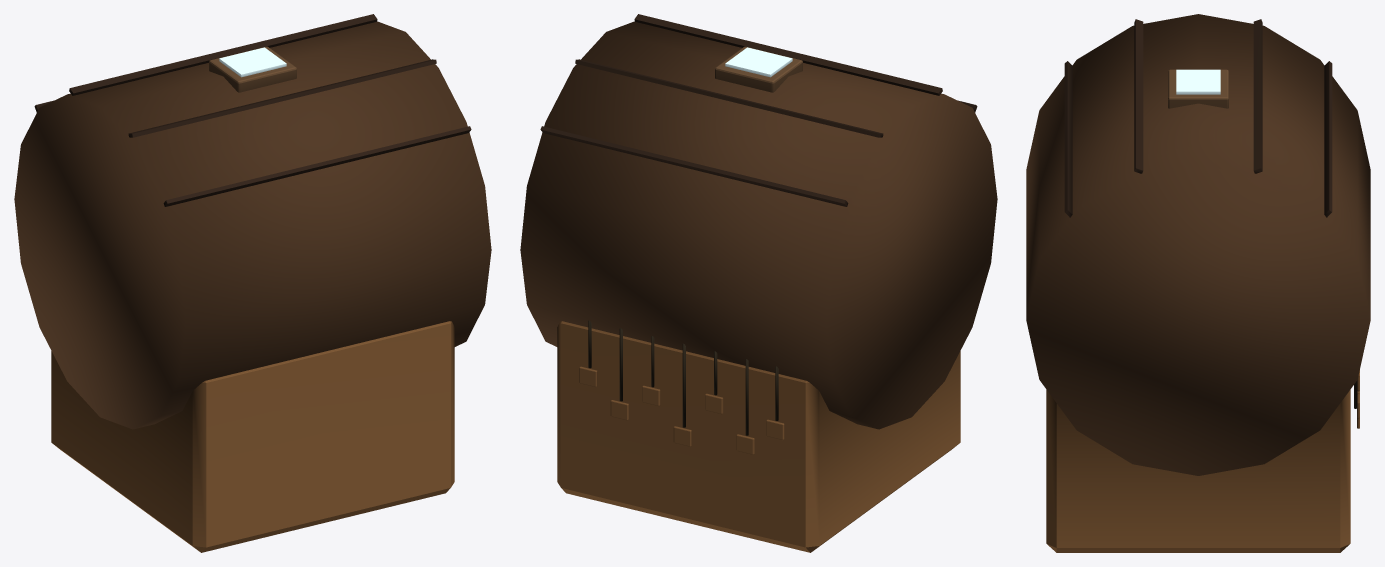
Rendered from house_compendium.glb.
The picture shows the model from 3 angles, left to right: view 1: azimuth 30°, elevation 25°; view 2: azimuth 150°, elevation 25°; view 3: azimuth 270°, elevation 25°; orthographic projection.
Visible parts, largest first — view 1: house_compendium; view 2: house_compendium; view 3: house_compendium.
Boxes of the visible parts, box(x1,y1,x2,y2) form: house_compendium: box(14, 14, 491, 552); house_compendium: box(520, 14, 997, 552); house_compendium: box(1026, 14, 1370, 552).
Bounding box in the file's own units: 1.75 × 2.24 × 1.7.
